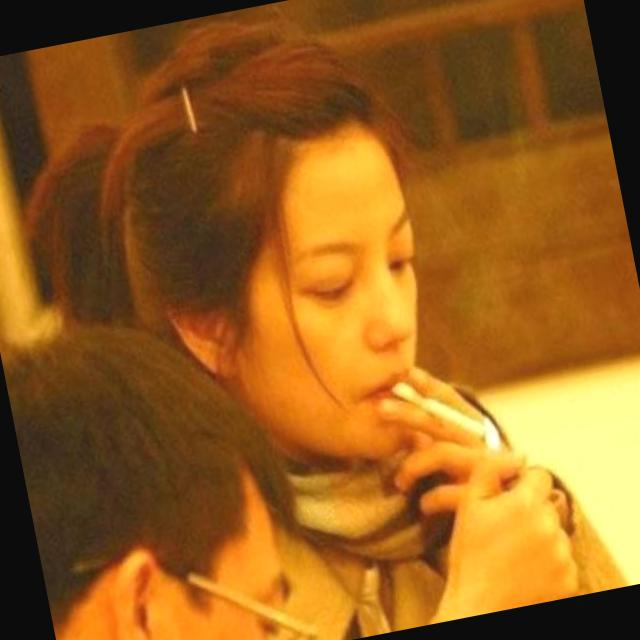cigarette: (356, 342, 528, 510)
